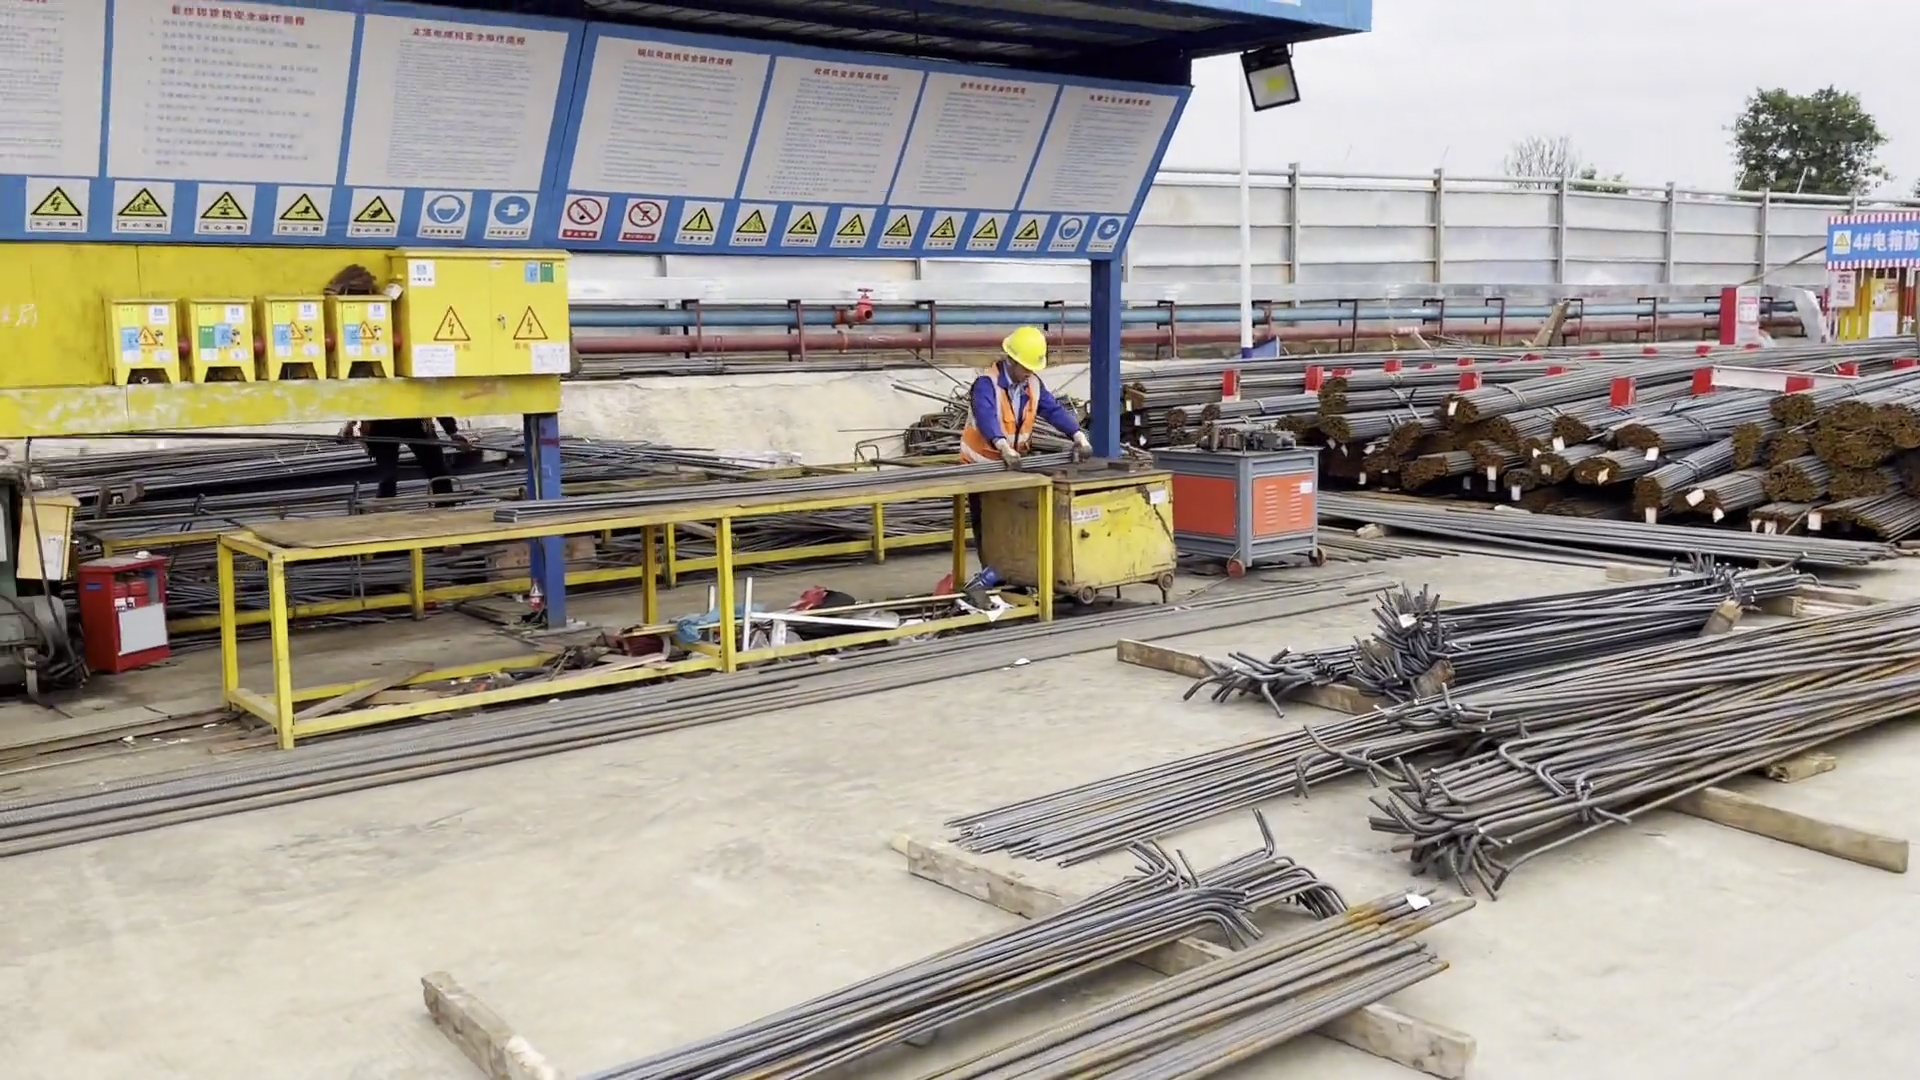ebox: (381, 234, 578, 385)
helmet: (999, 327, 1051, 367)
person: (940, 320, 1099, 460)
rebar: (579, 841, 1341, 1080), (1018, 854, 1525, 1080), (1428, 659, 1920, 860), (962, 679, 1473, 860), (1362, 552, 1844, 689), (1469, 370, 1688, 454), (1122, 336, 1512, 382), (1454, 353, 1693, 424), (1699, 374, 1868, 434), (1763, 360, 1916, 421), (1631, 434, 1742, 513), (1676, 465, 1781, 517), (1312, 372, 1488, 399), (1316, 409, 1446, 444), (1815, 488, 1920, 532), (1318, 386, 1490, 412), (1829, 389, 1920, 431), (1393, 452, 1470, 493), (1361, 423, 1436, 464), (1527, 411, 1600, 453), (1602, 416, 1686, 450), (1760, 462, 1827, 505), (1819, 462, 1897, 497), (1571, 452, 1646, 487), (1197, 398, 1324, 418), (1833, 429, 1892, 465), (1358, 437, 1410, 475), (1531, 446, 1580, 481), (1501, 464, 1544, 500), (1467, 442, 1516, 472), (1158, 402, 1213, 428), (1732, 426, 1769, 466), (1270, 412, 1319, 440)
vest: (966, 363, 1037, 458)
